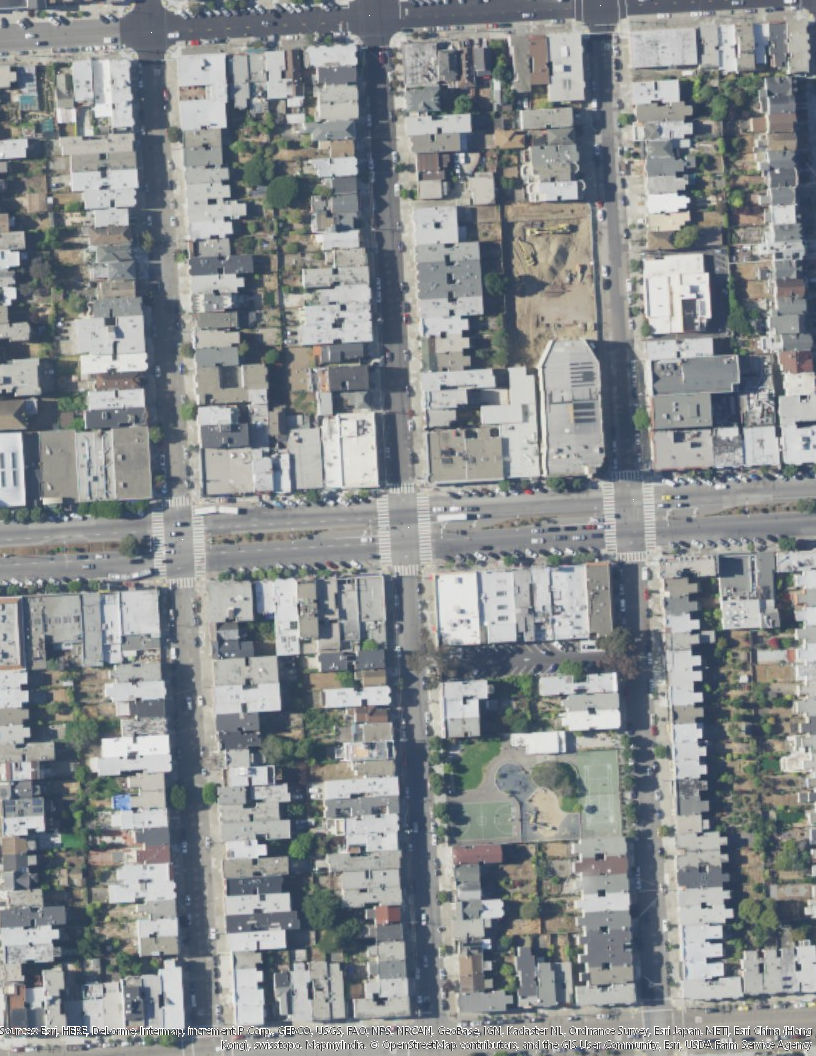zebracross: (598, 481, 619, 552), (375, 493, 394, 565), (417, 493, 435, 564), (642, 478, 658, 553), (151, 507, 167, 576), (191, 511, 207, 575), (159, 494, 193, 508), (613, 467, 644, 482), (386, 479, 417, 493), (394, 564, 420, 579), (168, 576, 195, 590), (618, 551, 644, 562)
